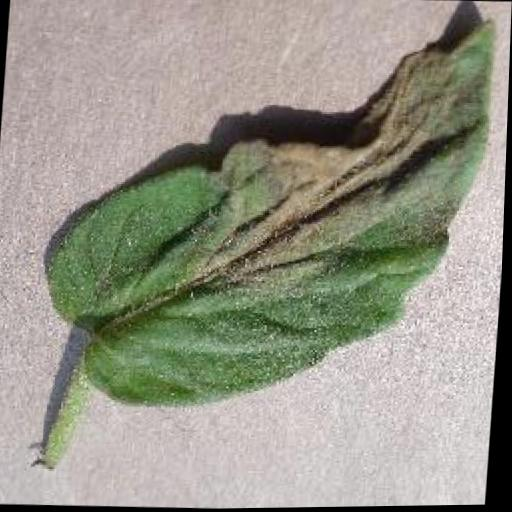Late Blight: (33, 2, 505, 418)
